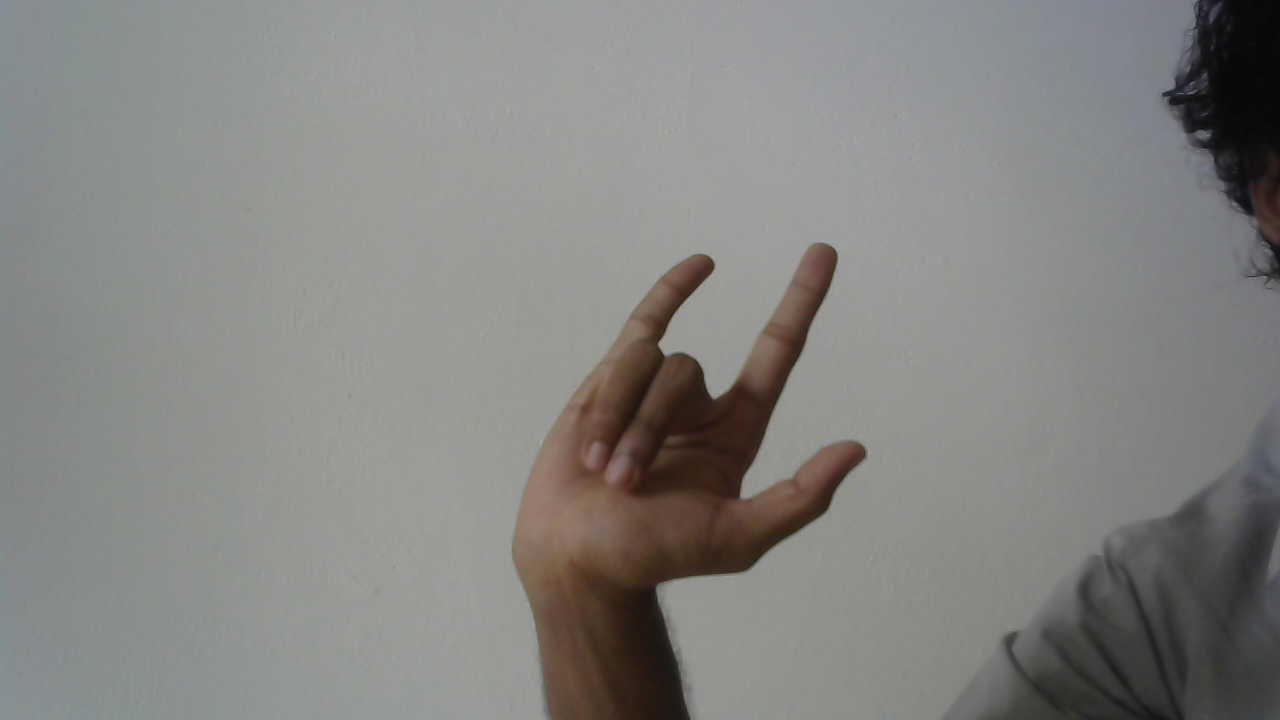iloveyou: (491, 230, 884, 626)
